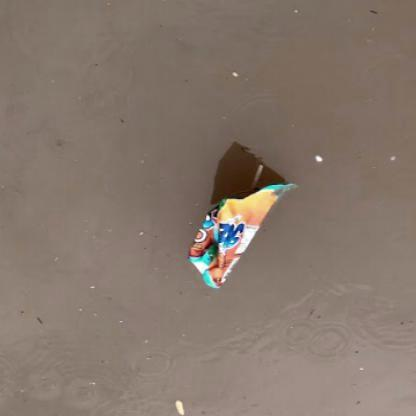Trash: (188, 181, 302, 294)
